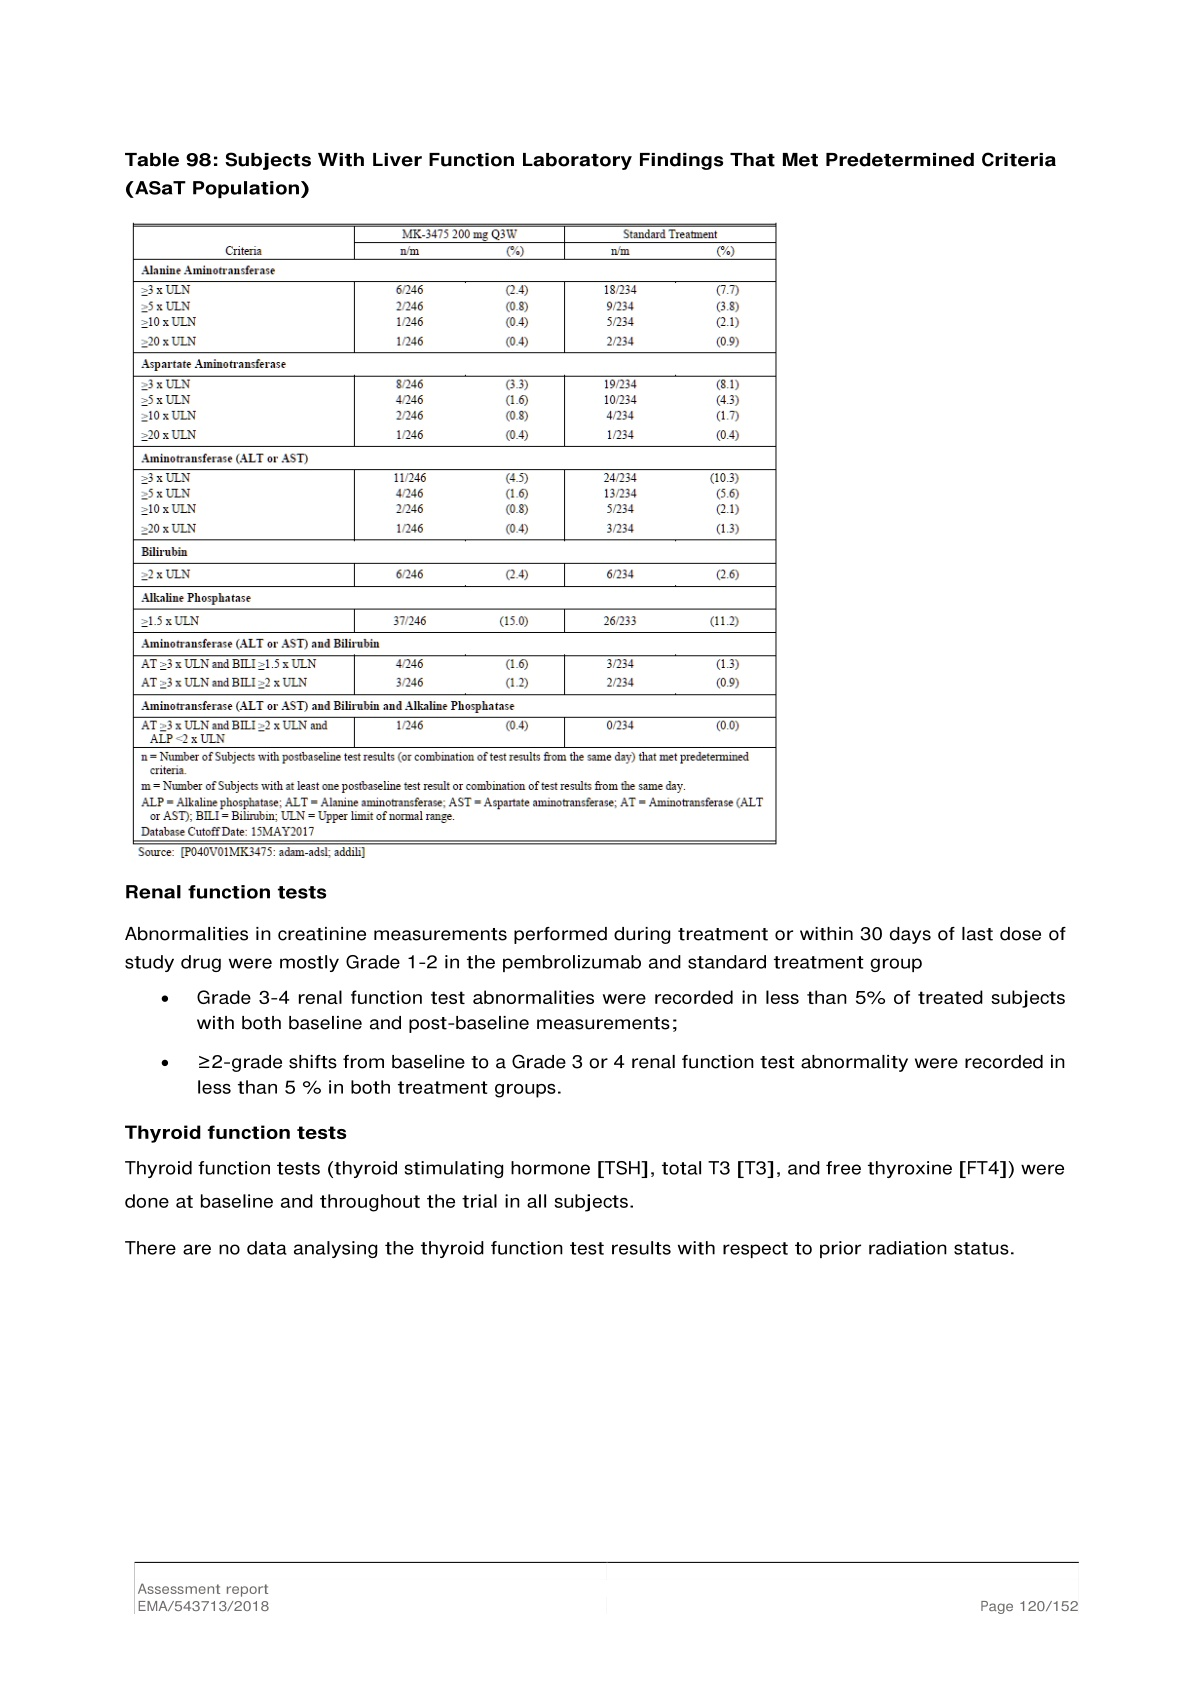partial_lined_merged_cells: (131, 222, 778, 845)
